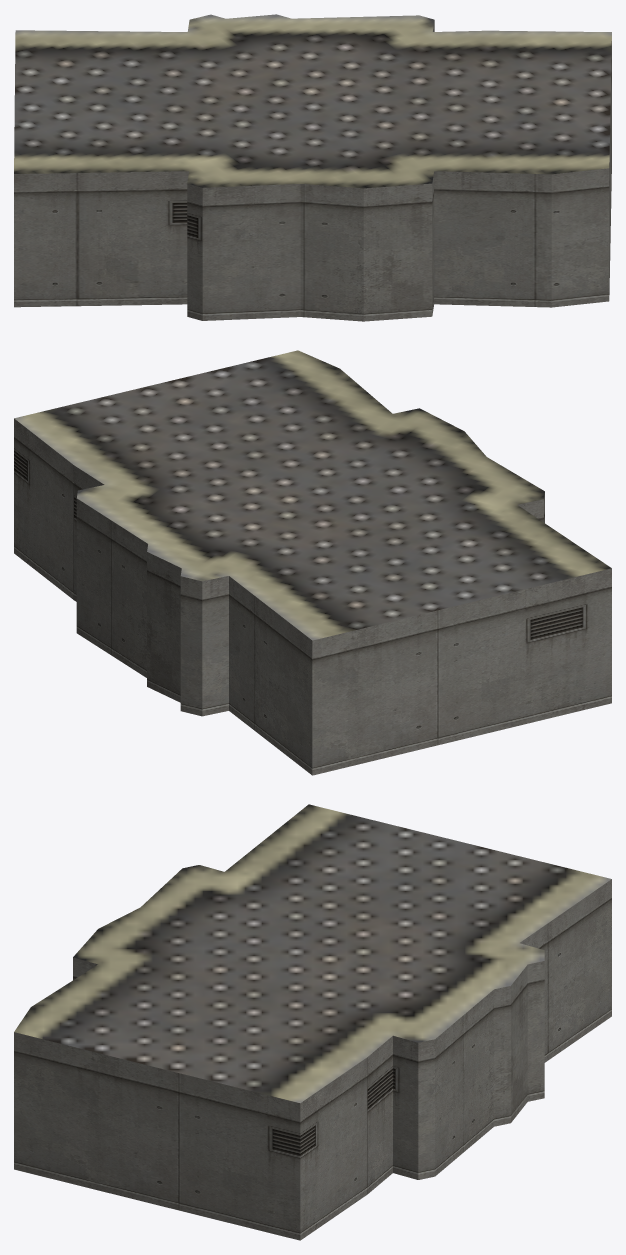
Rendered from building_medium_a_36.glb.
The picture shows the model from 3 angles, top to bottom: view 1: azimuth 30°, elevation 25°; view 2: azimuth 150°, elevation 25°; view 3: azimuth 270°, elevation 25°; orthographic projection. The views are drawn at different scales.
Visible parts, largest first — view 1: buildings/saxarba/building_medium/building_medium_a_36; view 2: buildings/saxarba/building_medium/building_medium_a_36; view 3: buildings/saxarba/building_medium/building_medium_a_36.
Boxes of the visible parts, box(x1,y1,x2,y2) form: buildings/saxarba/building_medium/building_medium_a_36: box(14, 14, 611, 321); buildings/saxarba/building_medium/building_medium_a_36: box(14, 350, 611, 775); buildings/saxarba/building_medium/building_medium_a_36: box(14, 804, 611, 1240).
Bounding box in the file's own units: 84 × 18 × 71.
